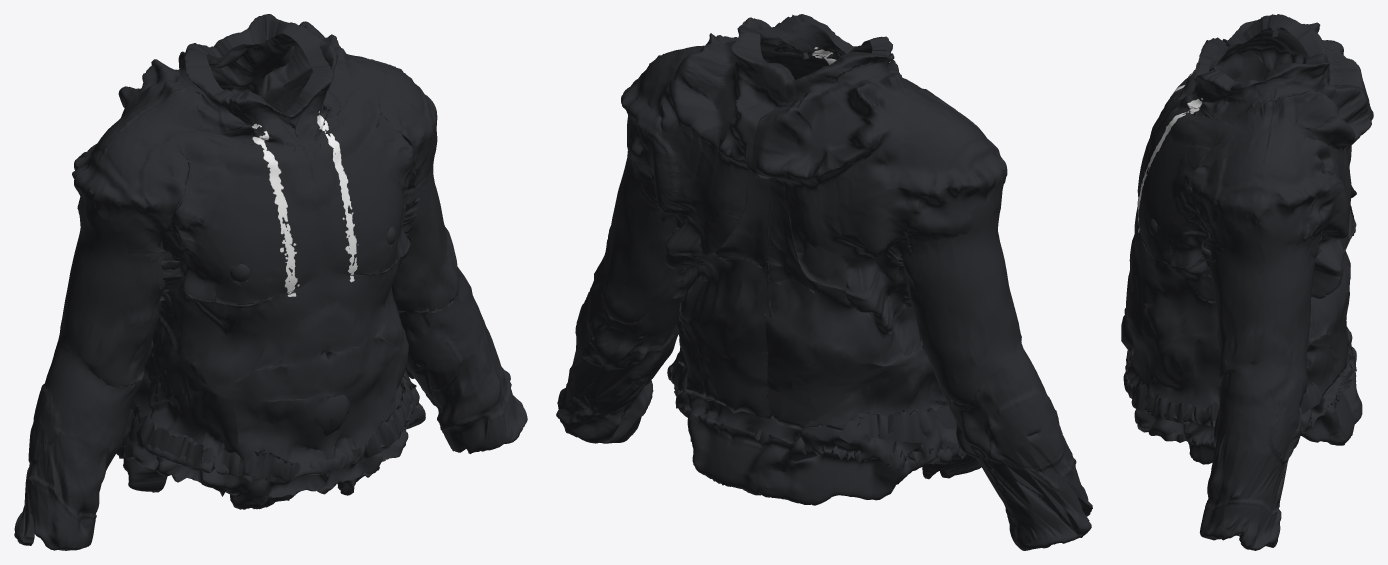
Rendered from top_hoodie.glb.
3 views of the same model, side by side, from view 1: azimuth 30°, elevation 25°; view 2: azimuth 150°, elevation 25°; view 3: azimuth 270°, elevation 25° (orthographic). The views are drawn at different scales.
Visible parts, largest first — view 1: top_hoodie; view 2: top_hoodie; view 3: top_hoodie.
Part boxes in pixels (x1,y1,x2,y2): top_hoodie: [14, 14, 527, 550]; top_hoodie: [556, 14, 1092, 550]; top_hoodie: [1121, 14, 1373, 550].
Bounding box in the file's own units: 0.6745 × 0.5695 × 0.3161.
1 material, 1 textured.
